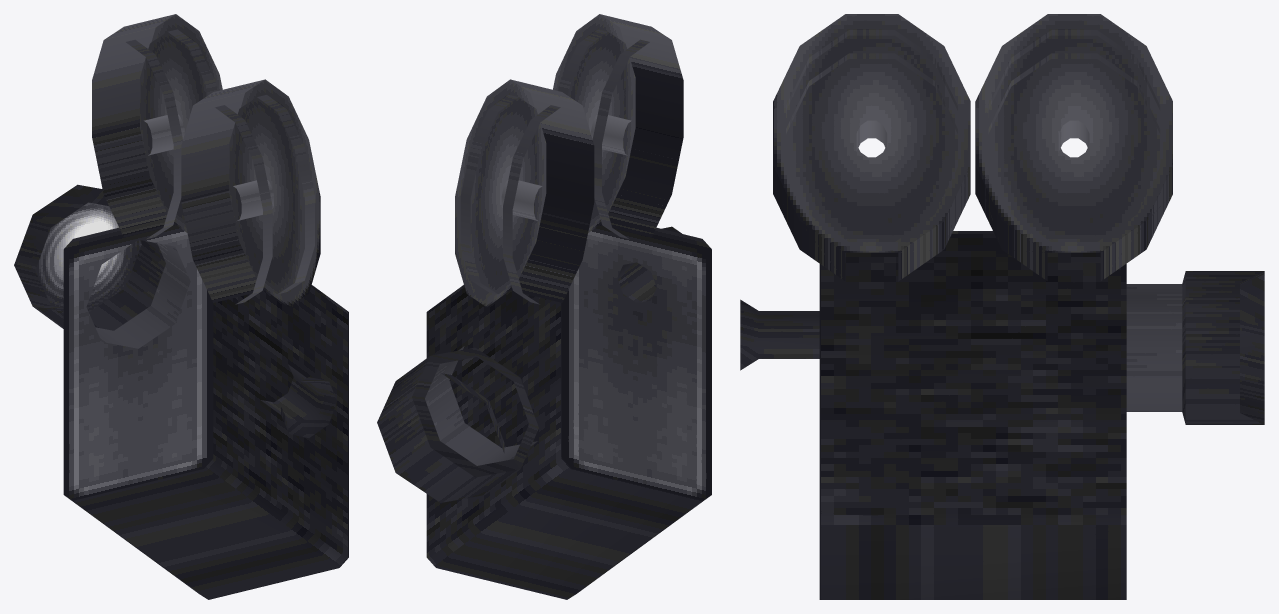
Rendered from ps2_save-icons_deadoralive2hardcore-replay.glb.
3 renders of one model, left to right at view 1: azimuth 30°, elevation 25°; view 2: azimuth 150°, elevation 25°; view 3: azimuth 270°, elevation 25°, orthographic. The views are drawn at different scales.
Parts seen in each view (by area): view 1: replay.ico; view 2: replay.ico; view 3: replay.ico.
Part boxes in pixels (left/top/right/bottom): replay.ico: left=14, top=14, right=348, bottom=599; replay.ico: left=377, top=14, right=711, bottom=599; replay.ico: left=740, top=14, right=1264, bottom=599.
Bounding box in the file's own units: 1.44 × 4.33 × 3.84.
1 material, 1 textured.
